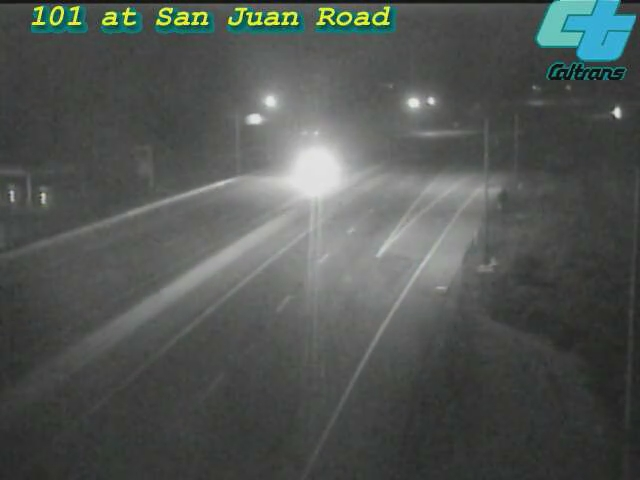vehicle: (275, 132, 355, 212), (590, 87, 640, 137)
